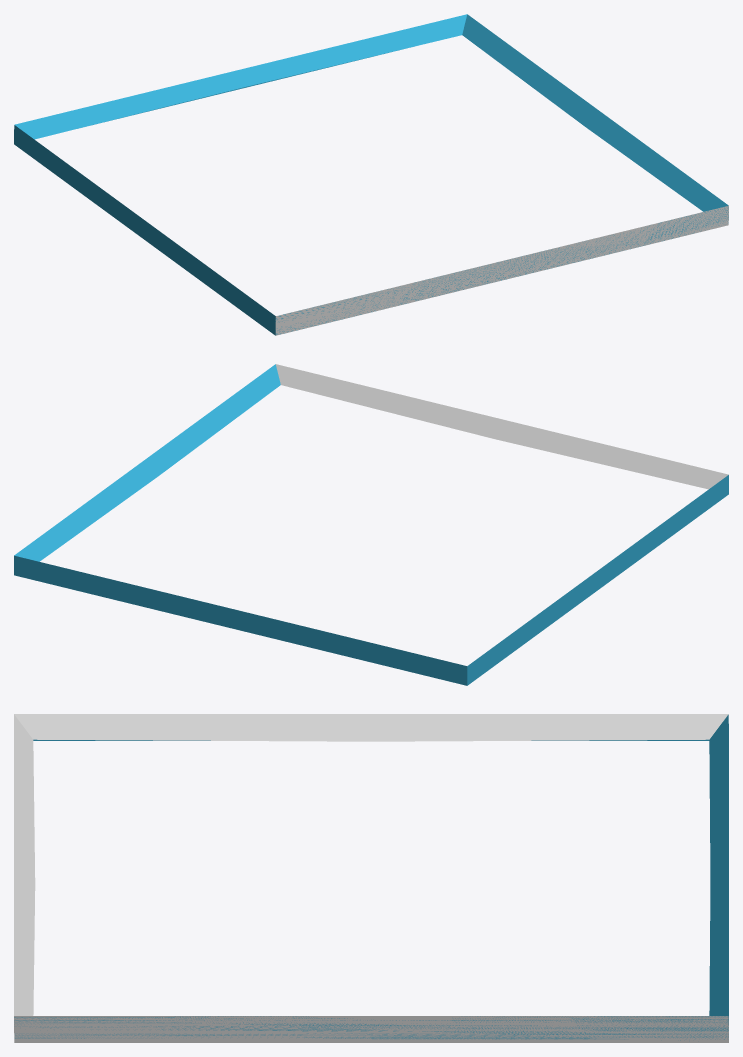
The model's file is Outline Box_v2.fbx.
3 views of the same model, one above another, from view 1: azimuth 30°, elevation 25°; view 2: azimuth 150°, elevation 25°; view 3: azimuth 270°, elevation 25° (orthographic). The views are drawn at different scales.
Visible parts, largest first — view 1: Outline Box; view 2: Outline Box; view 3: Outline Box.
Boxes of the visible parts, box(x1,y1,x2,y2) form: Outline Box: box(14, 14, 728, 335); Outline Box: box(14, 364, 728, 685); Outline Box: box(14, 714, 728, 1042).
Bounding box in the file's own units: 200 × 8.28 × 200.
